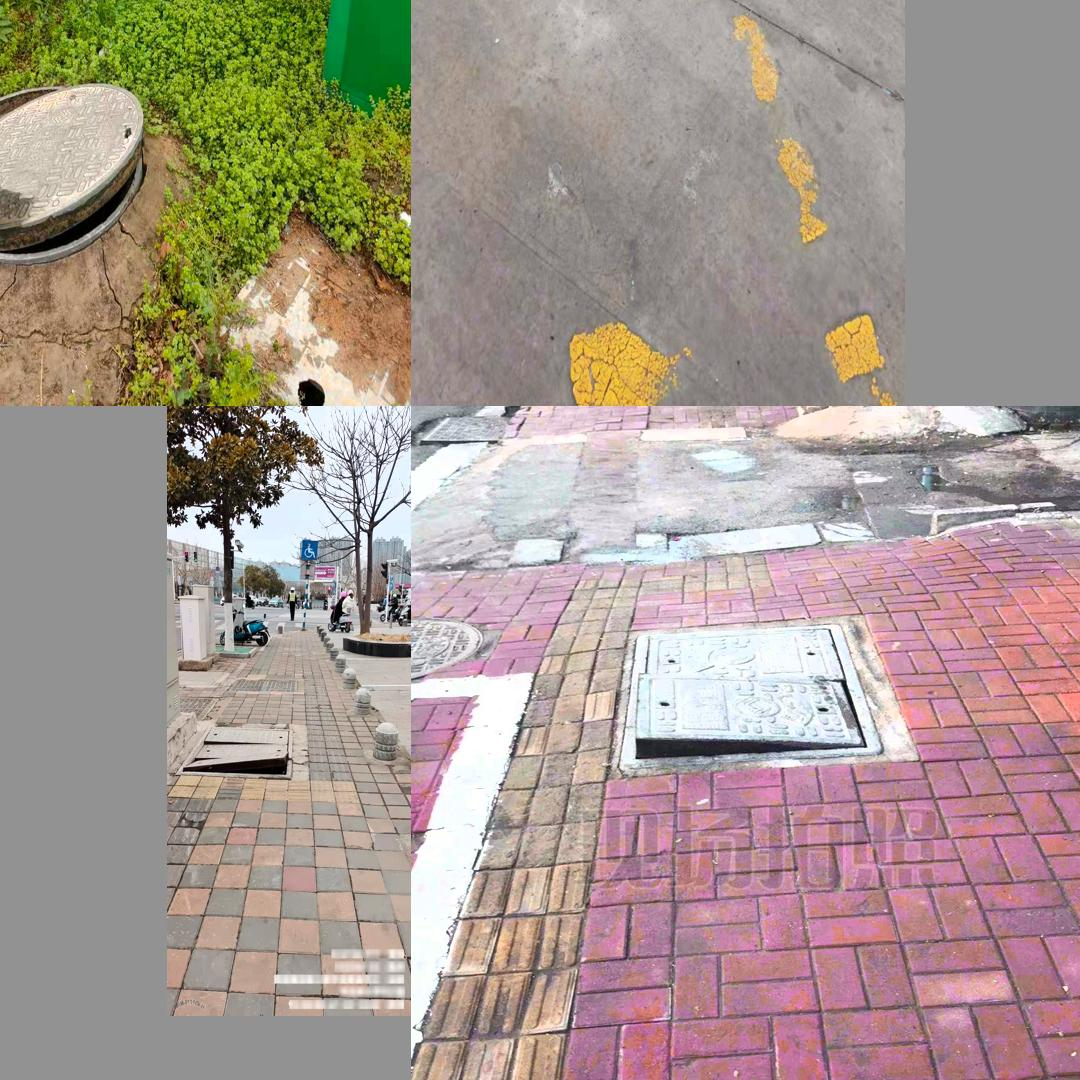good: (224, 676, 300, 695)
uncovered: (617, 623, 882, 773), (0, 80, 145, 260), (173, 722, 293, 778)
